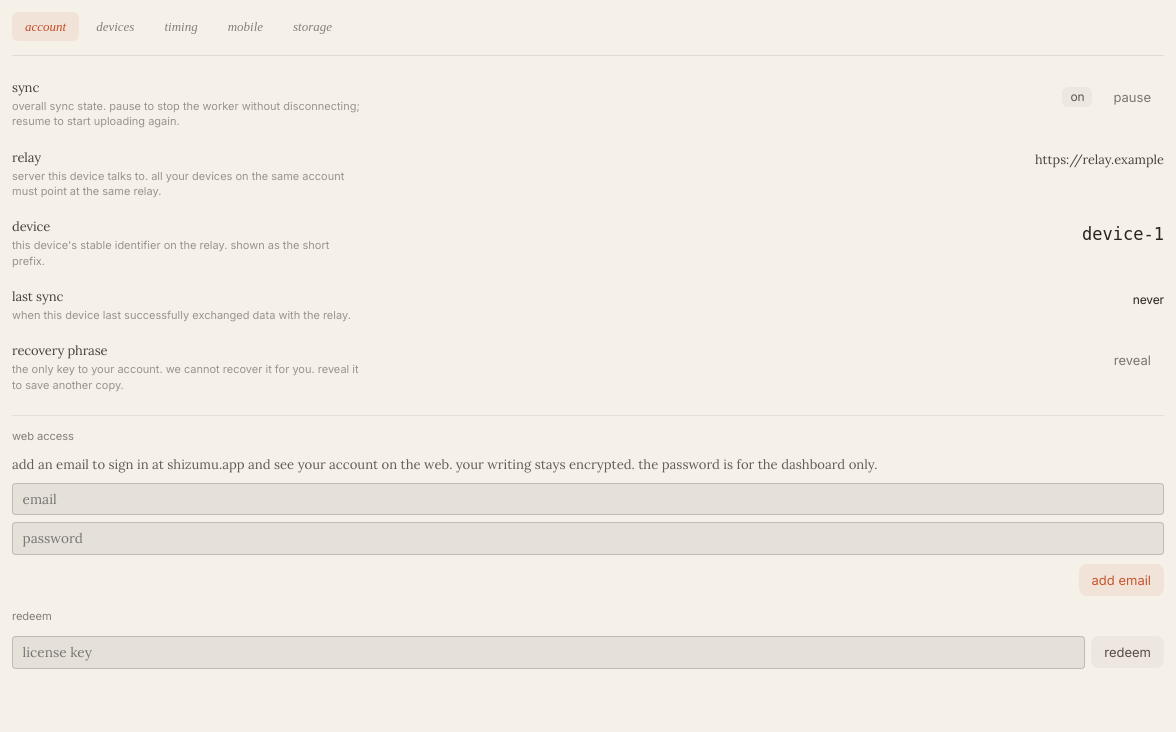
Test: SyncSettings › storage tab › names the floor under the sweep and how the bytes are released
This screenshot has width=1176, height=732.
Click the button with class "sync-tab" showing "storage". click: (312, 26)
box: 280,12 -> 345,41
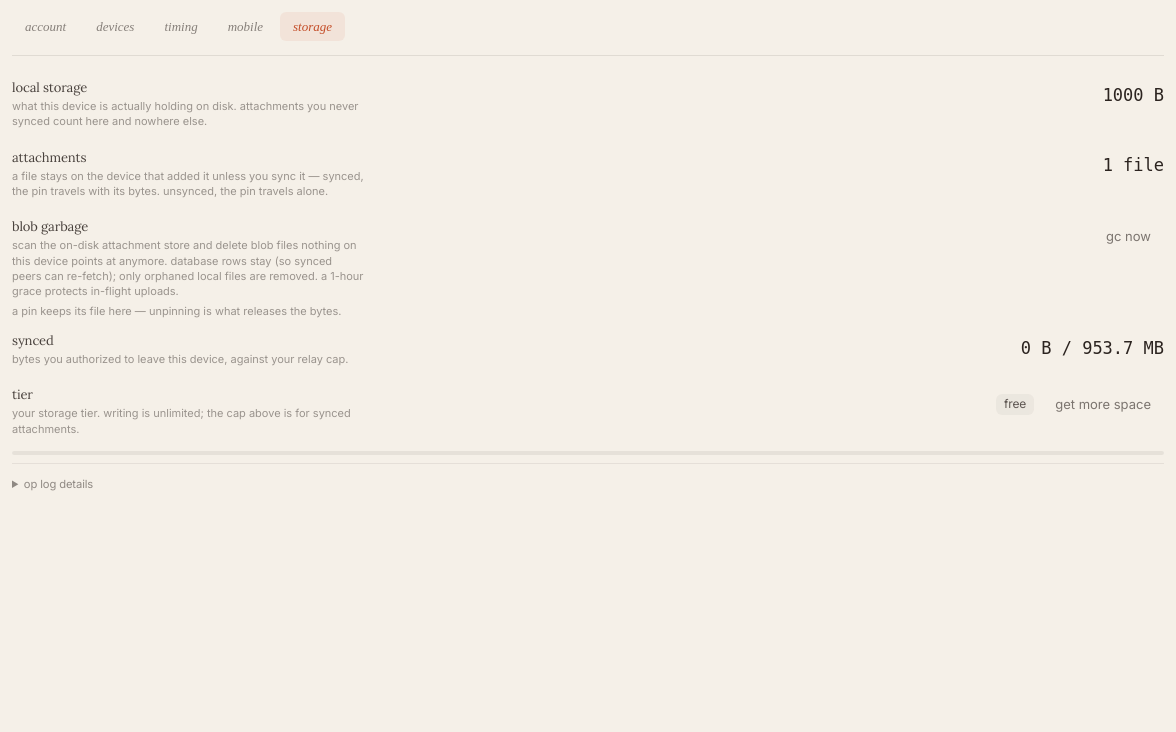
Result: the text "a pin keeps its file here — unpinning is what releases the bytes." is shown at 12,304 -> 364,319
